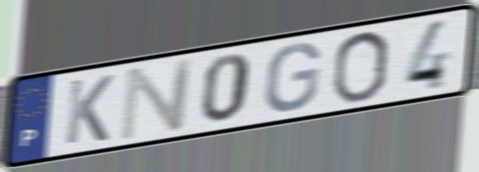0: (197, 51, 253, 126)
4: (399, 17, 455, 93)
G: (261, 41, 324, 114)
K: (62, 72, 117, 148)
N: (117, 55, 197, 144)
O: (329, 27, 393, 106)
